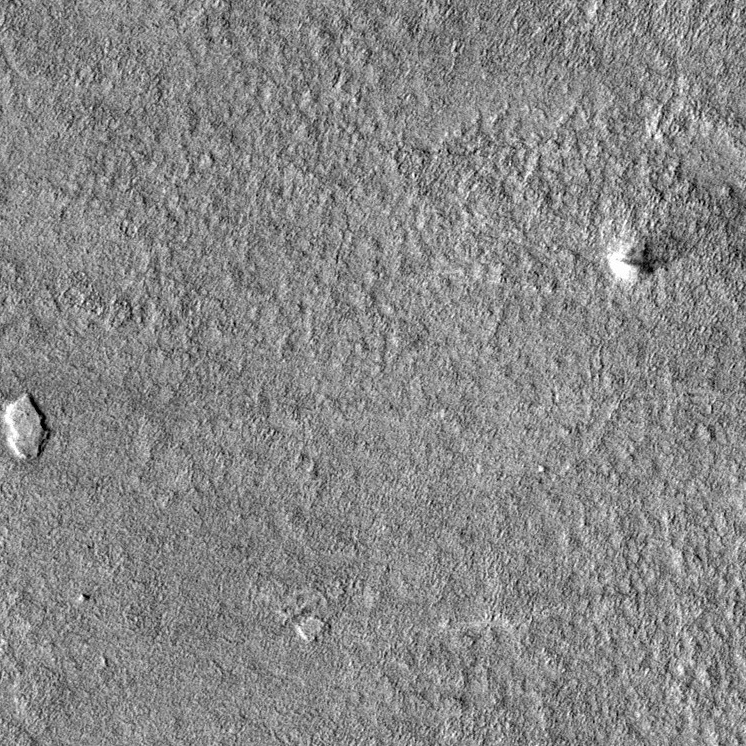dust_devil: (607, 230, 698, 288)
